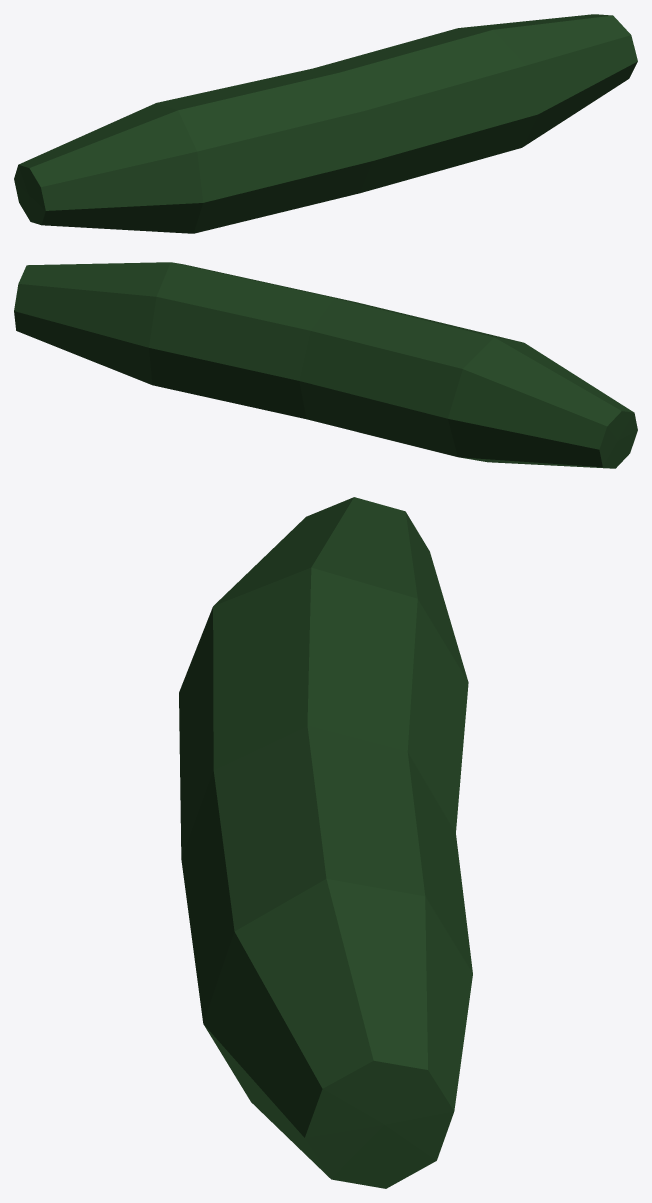
File: cucumber.fbx
The picture shows the model from 3 angles, top to bottom: view 1: azimuth 30°, elevation 25°; view 2: azimuth 150°, elevation 25°; view 3: azimuth 270°, elevation 25°; orthographic projection. The views are drawn at different scales.
Parts seen in each view (by area): view 1: pCylinder15; view 2: pCylinder15; view 3: pCylinder15.
Boxes of the visible parts, box(x1,y1,x2,y2) form: pCylinder15: box(14, 14, 637, 233); pCylinder15: box(14, 262, 637, 468); pCylinder15: box(179, 497, 472, 1188).
Size of the model in its own units: 0.6538 by 0.127 by 0.1395.
